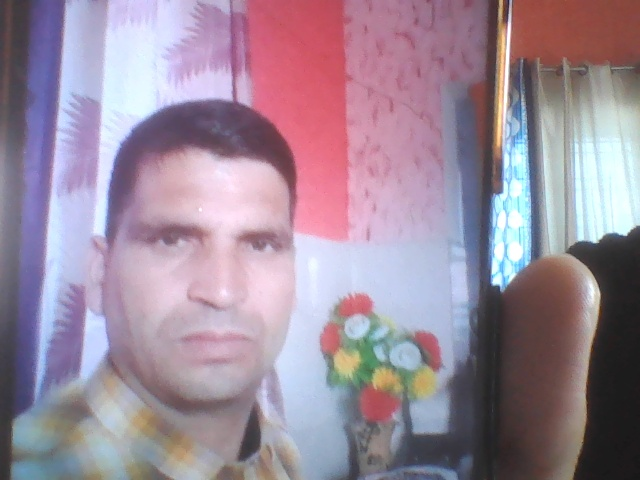fake: (75, 66, 328, 424)
